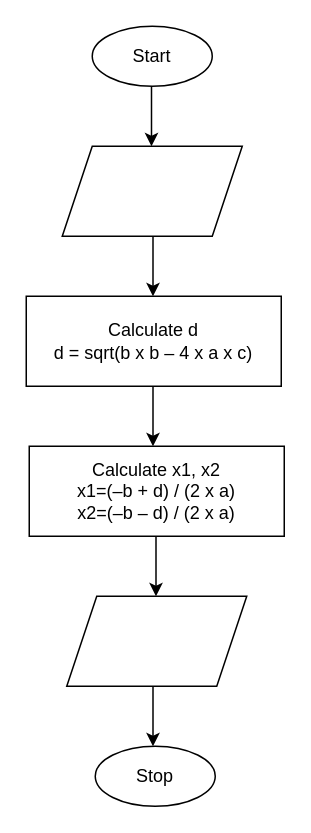
The diagram is 311 pixels wide and 833 high, and some of its shapes have lost their labels. Each missing label, with the centre of its shape:
Input a, b, c: the point at 151,190
Print x1, x2: the point at 156,640
